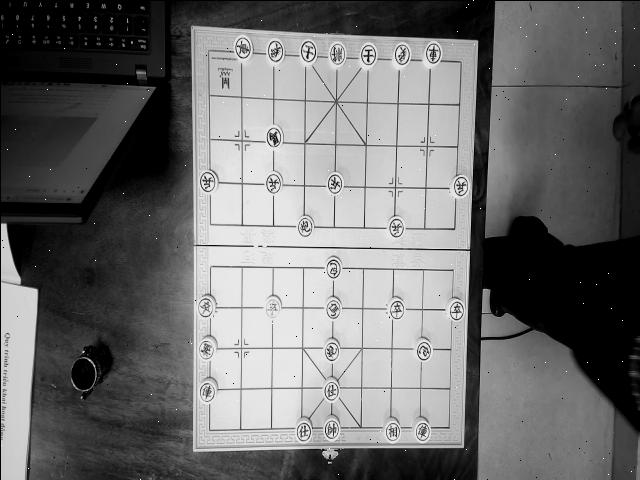piece: (232, 32, 252, 62), (422, 38, 442, 68), (264, 36, 284, 66), (326, 40, 346, 68), (390, 41, 410, 69), (357, 40, 377, 68), (448, 172, 469, 198), (298, 38, 317, 66), (197, 168, 217, 194), (444, 296, 464, 322), (381, 416, 401, 442), (196, 378, 216, 404), (197, 336, 217, 362), (412, 336, 432, 362), (294, 416, 312, 444), (322, 414, 340, 442), (411, 416, 430, 442), (325, 169, 343, 196), (323, 294, 341, 320), (264, 123, 282, 149), (196, 294, 214, 320), (322, 338, 340, 364), (321, 376, 339, 402), (386, 214, 404, 238), (386, 296, 404, 320), (263, 170, 281, 194), (324, 255, 342, 279), (296, 214, 313, 238), (264, 294, 280, 318)
